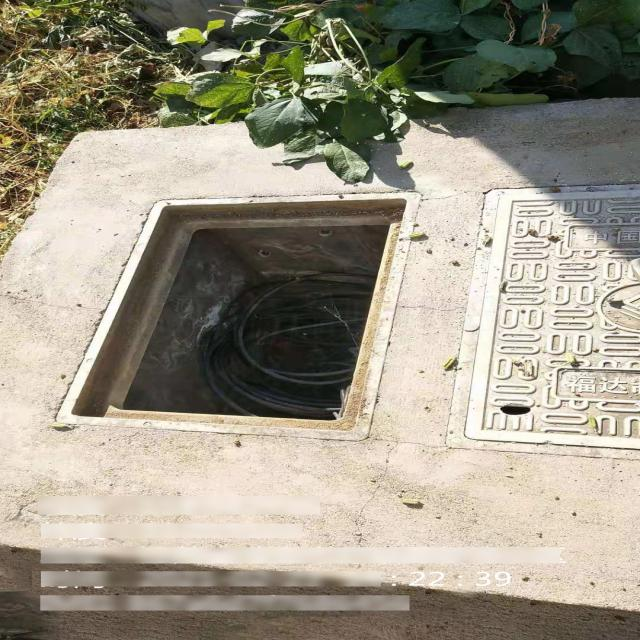Good: (446, 176, 640, 467)
Uncovered: (54, 190, 419, 442)
